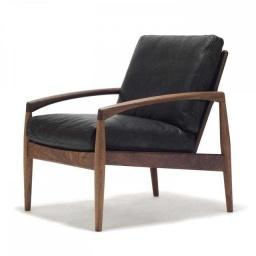Chair: (25, 36, 234, 230)
